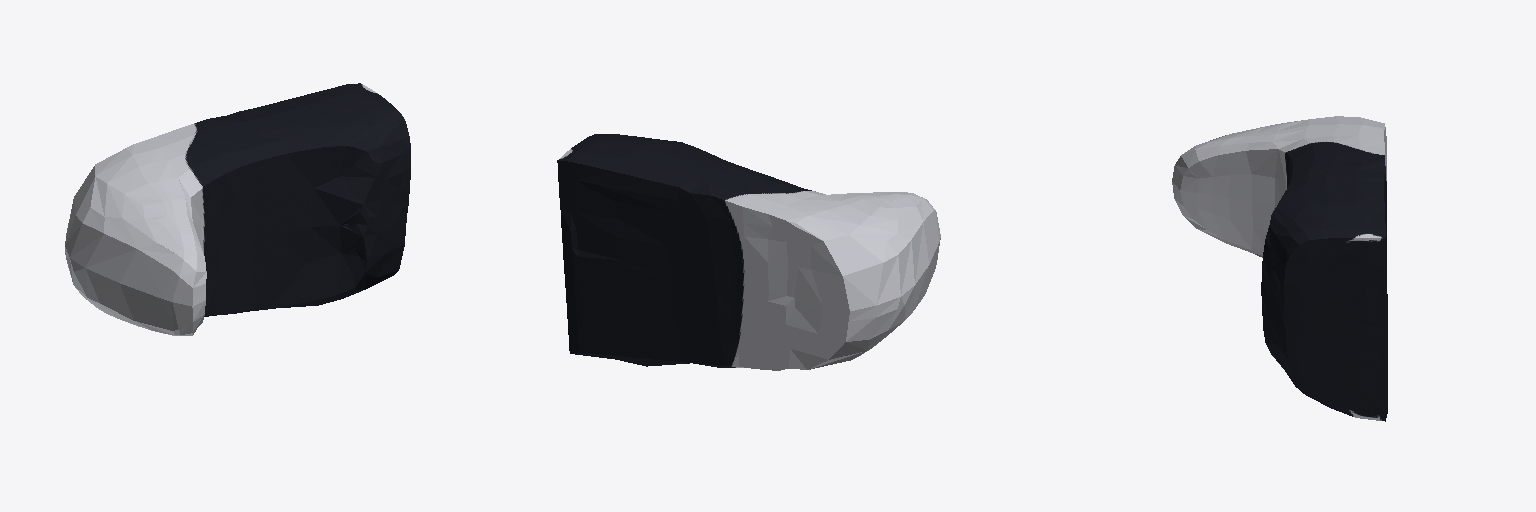
3 renders of one model, left to right at view 1: azimuth 30°, elevation 25°; view 2: azimuth 150°, elevation 25°; view 3: azimuth 270°, elevation 25°, orthographic.
Parts seen in each view (by area): view 1: R_ANKLE_R-459-FACES; view 2: R_ANKLE_R-459-FACES; view 3: R_ANKLE_R-459-FACES.
Boxes of the visible parts, box(x1,y1,x2,y2) form: R_ANKLE_R-459-FACES: box(65, 83, 410, 335); R_ANKLE_R-459-FACES: box(557, 134, 940, 370); R_ANKLE_R-459-FACES: box(1172, 116, 1387, 421).
Bounding box in the file's own units: 0.1885 × 0.1143 × 0.1105.
1 materials, 1 textured.